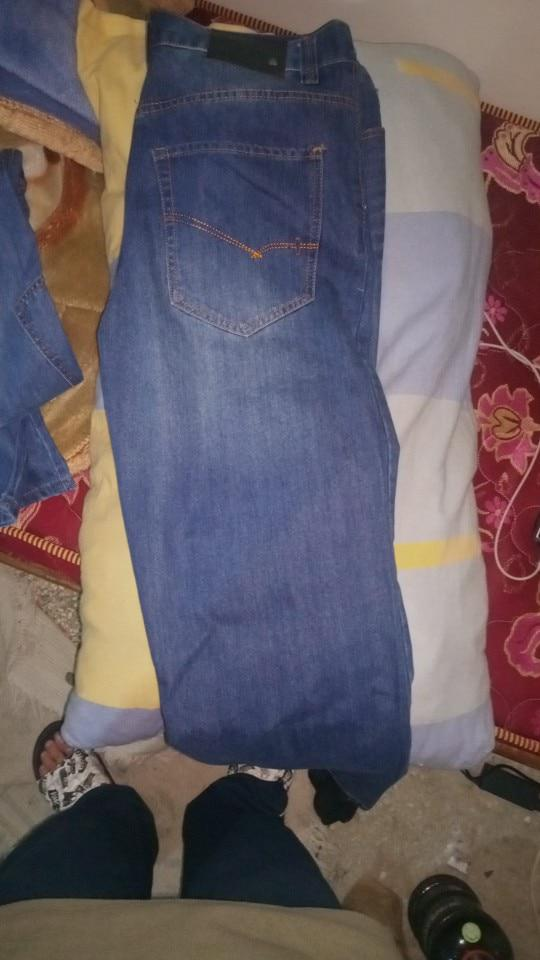jeans: (72, 16, 448, 806)
